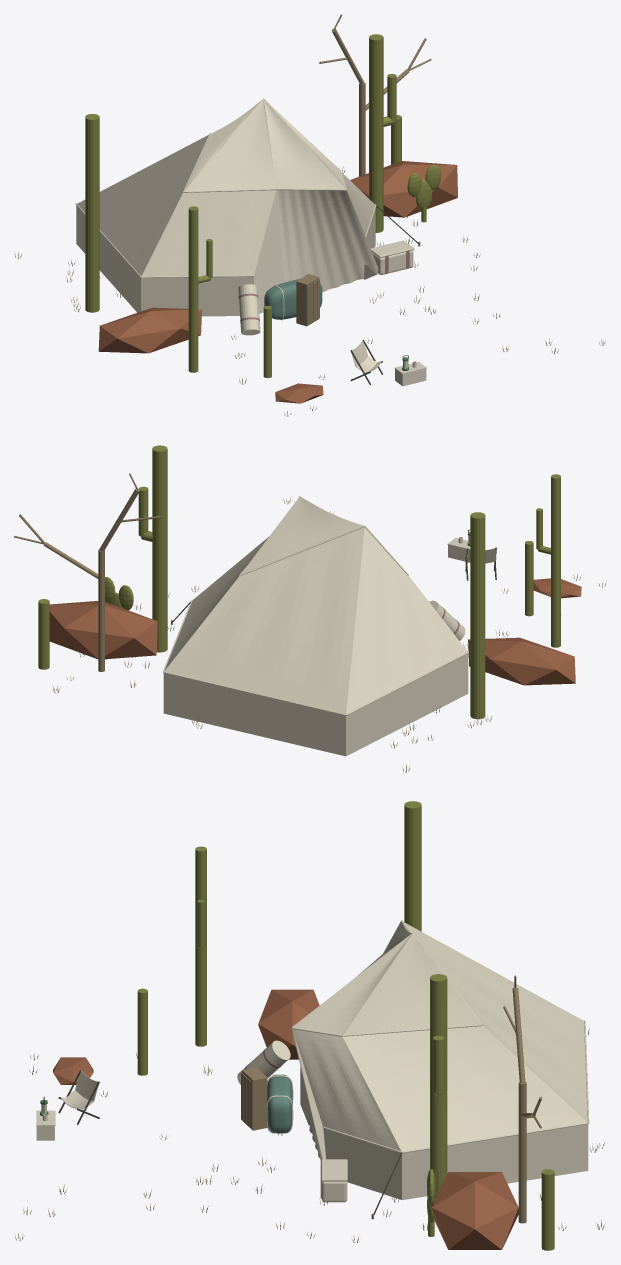
Rendered from C06_remade.glb.
The picture shows the model from 3 angles, top to bottom: view 1: azimuth 30°, elevation 25°; view 2: azimuth 150°, elevation 25°; view 3: azimuth 270°, elevation 25°; orthographic projection. The views are drawn at different scales.
Visible parts, largest first — view 1: T01_skirt_0.001, T02_front_closed_drape.001, T01_skirt_5.001, T01_roof_0.001, R01_rock_proxy_0.001, T01_roof_1.001, T01_lowwall_0.001, V01_cactus_1.001, R01_rock_proxy_1.001, V01_cactus_3.001, T01_lowwall_5.001, T02_left_flap.001 (+11 smaller); view 2: T01_skirt_4.001, T01_skirt_5.001, T01_lowwall_4.001, T01_lowwall_5.001, R01_rock_proxy_1.001, R01_rock_proxy_0.001, T01_roof_4.001, V01_cactus_1.001, V01_cactus_3.001, T01_skirt_3.001, V01_cactus_0.001, V02_dead_branch_proxy_0.001 (+4 smaller); view 3: T01_skirt_3.001, T01_skirt_4.001, T01_lowwall_3.001, T01_skirt_2.001, T01_roof_3.001, R01_rock_proxy_1.001, T01_lowwall_2.001, V01_cactus_3.001, T01_roof_2.001, R01_rock_proxy_0.001, V01_cactus_1.001, V01_cactus_0.001 (+12 smaller).
Part boxes in pixels (left/top/right/bottom): T01_skirt_0.001: left=141, top=190, right=275, bottom=276; T02_front_closed_drape.001: left=276, top=190, right=378, bottom=292; T01_skirt_5.001: left=77, top=135, right=208, bottom=276; T01_roof_0.001: left=185, top=99, right=276, bottom=191; R01_rock_proxy_0.001: left=98, top=307, right=201, bottom=353; T01_roof_1.001: left=263, top=99, right=345, bottom=188; T01_lowwall_0.001: left=141, top=276, right=253, bottom=316; V01_cactus_1.001: left=85, top=114, right=99, bottom=312; R01_rock_proxy_1.001: left=350, top=161, right=457, bottom=217; V01_cactus_3.001: left=369, top=34, right=383, bottom=232; T01_lowwall_5.001: left=76, top=206, right=140, bottom=312; T02_left_flap.001: left=254, top=190, right=284, bottom=313; T01_skirt_4.001: left=164, top=527, right=364, bottom=714; T01_skirt_5.001: left=346, top=527, right=467, bottom=713; T01_lowwall_4.001: left=163, top=673, right=345, bottom=756; T01_lowwall_5.001: left=346, top=653, right=468, bottom=756; R01_rock_proxy_1.001: left=49, top=601, right=157, bottom=659; R01_rock_proxy_0.001: left=468, top=637, right=575, bottom=685; T01_roof_4.001: left=241, top=496, right=362, bottom=573; V01_cactus_1.001: left=470, top=512, right=485, bottom=719; V01_cactus_3.001: left=152, top=445, right=167, bottom=652; T01_skirt_3.001: left=164, top=536, right=269, bottom=670; V01_cactus_0.001: left=551, top=474, right=560, bottom=647; V02_dead_branch_proxy_0.001: left=98, top=549, right=104, bottom=671; T01_skirt_3.001: left=343, top=1025, right=586, bottom=1151; T01_skirt_4.001: left=404, top=922, right=587, bottom=1121; T01_lowwall_3.001: left=402, top=1124, right=588, bottom=1200; T01_skirt_2.001: left=293, top=1029, right=400, bottom=1150; T01_roof_3.001: left=343, top=934, right=481, bottom=1034; R01_rock_proxy_1.001: left=431, top=1172, right=518, bottom=1249; T01_lowwall_2.001: left=323, top=1128, right=401, bottom=1199; V01_cactus_3.001: left=430, top=974, right=447, bottom=1198; T01_roof_2.001: left=293, top=933, right=412, bottom=1034; R01_rock_proxy_0.001: left=258, top=989, right=319, bottom=1059; V01_cactus_1.001: left=404, top=801, right=421, bottom=931; V01_cactus_0.001: left=195, top=846, right=206, bottom=1046.
Size of what is drawn, in the model's own units: 16.57 by 7.21 by 16.23.
